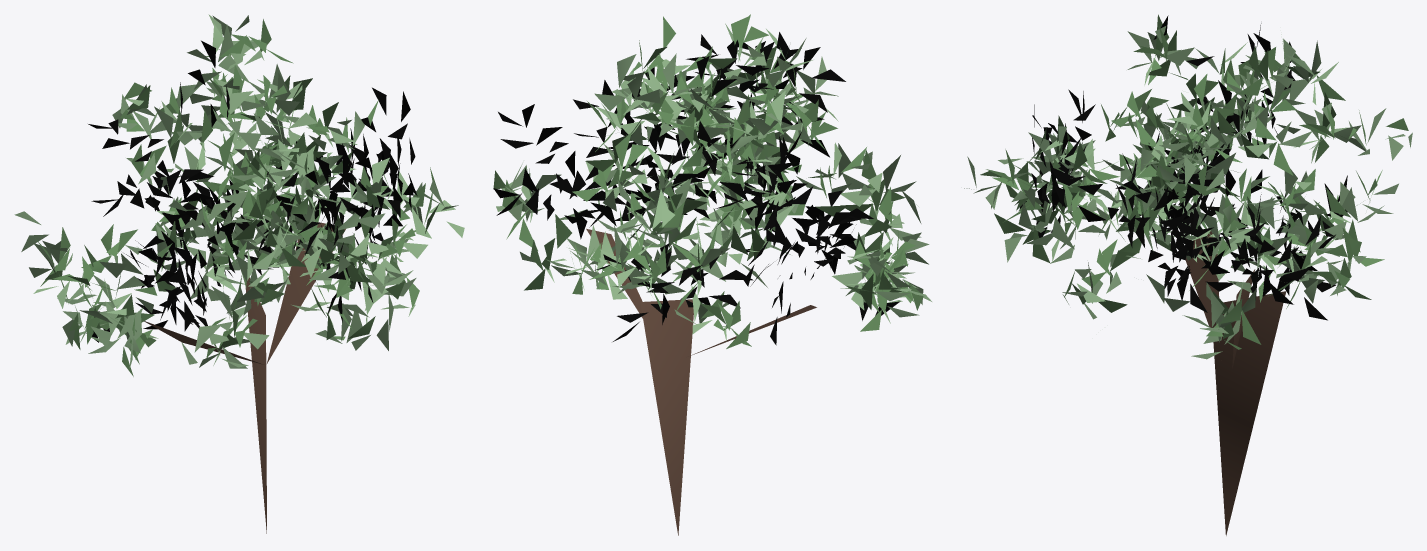
File: lowpolytree.fbx
3 views of the same model, side by side, from view 1: azimuth 30°, elevation 25°; view 2: azimuth 150°, elevation 25°; view 3: azimuth 270°, elevation 25° (orthographic). The views are drawn at different scales.
Visible parts, largest first — view 1: mahagony; view 2: mahagony; view 3: mahagony.
Part boxes in pixels (bbox=[...]): mahagony: bbox=[14, 14, 464, 533]; mahagony: bbox=[493, 14, 931, 535]; mahagony: bbox=[964, 14, 1412, 535].
Size of the model in its own units: 1076 by 1221 by 1006.
